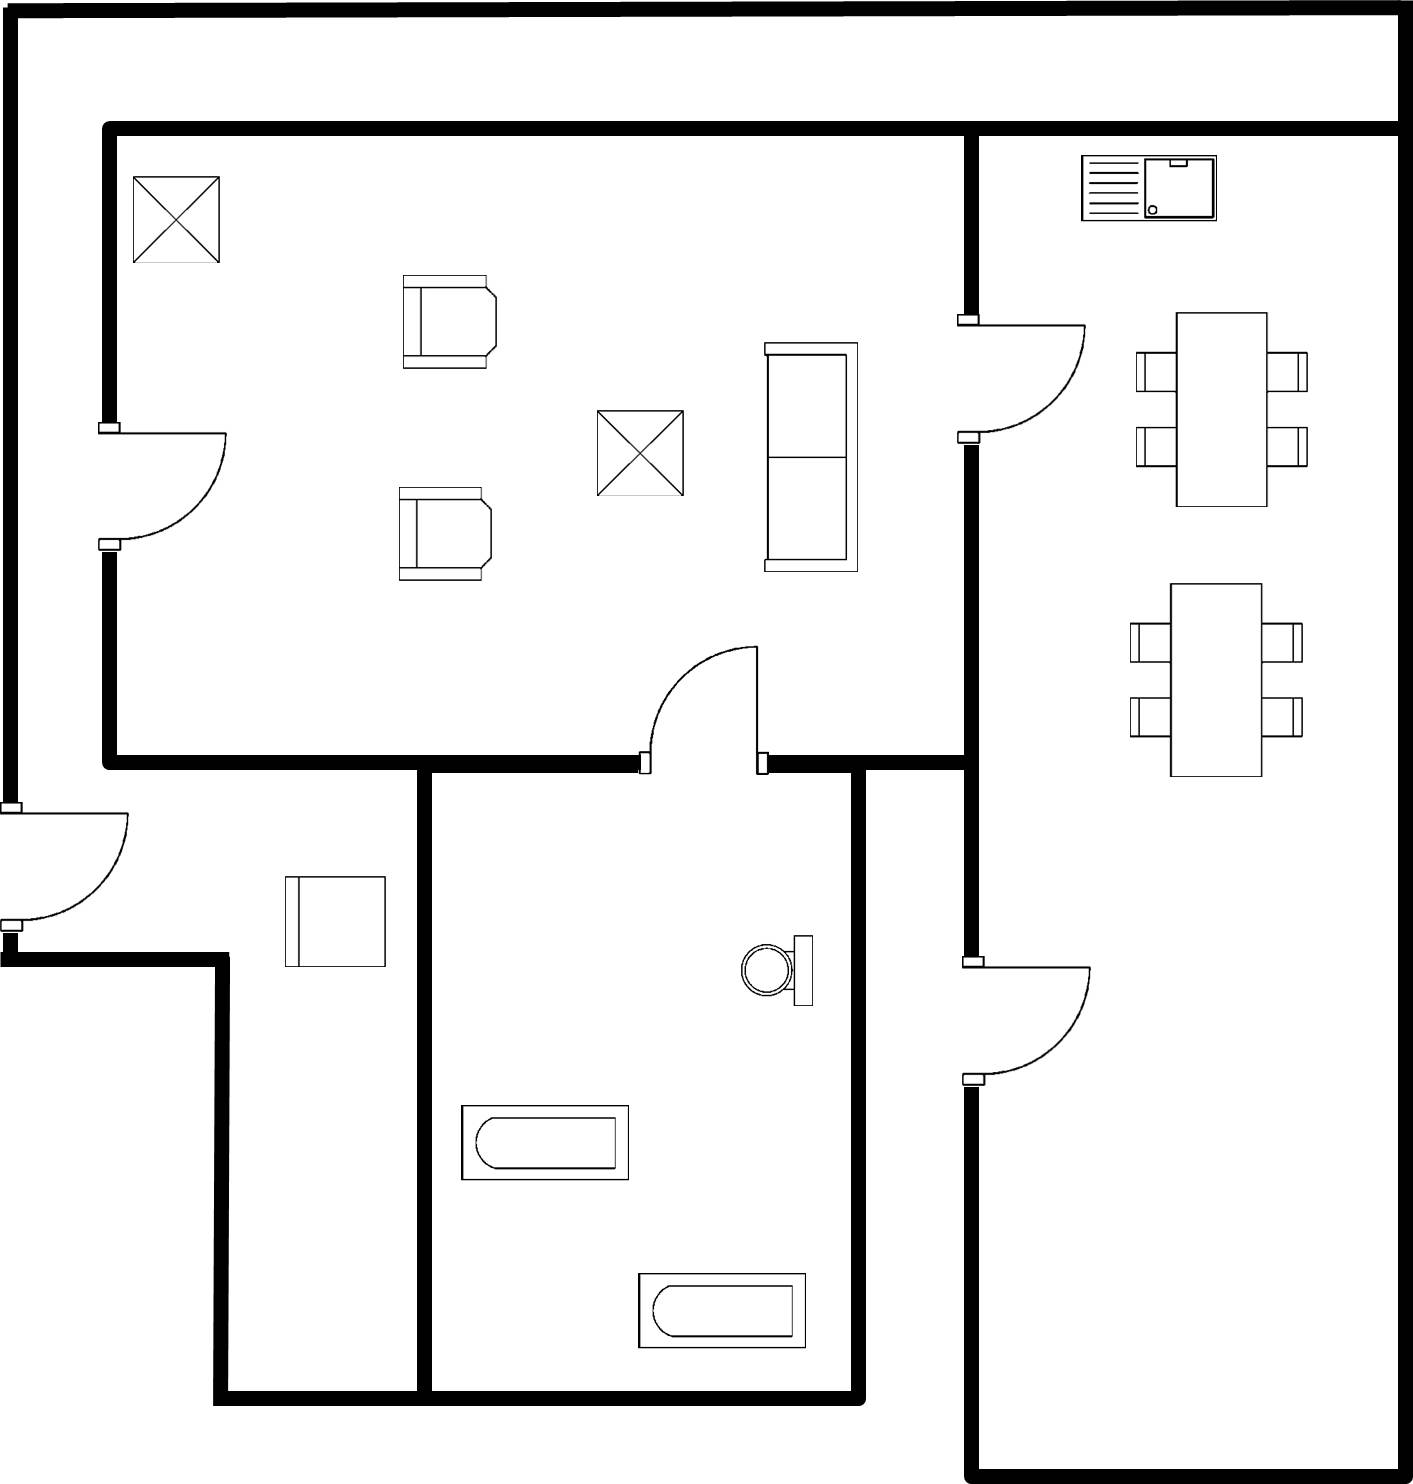armchair: (385, 475, 504, 593), (392, 266, 505, 384)
coffee_table: (585, 397, 696, 511), (125, 169, 227, 271)
dining_table: (1118, 572, 1323, 788), (1120, 301, 1321, 519)
large_sink: (733, 924, 821, 1017)
large_sofa: (749, 330, 873, 585)
sink: (1072, 148, 1228, 233)
small_sofa: (270, 865, 396, 980)
tub: (624, 1261, 815, 1364), (449, 1094, 641, 1194)
